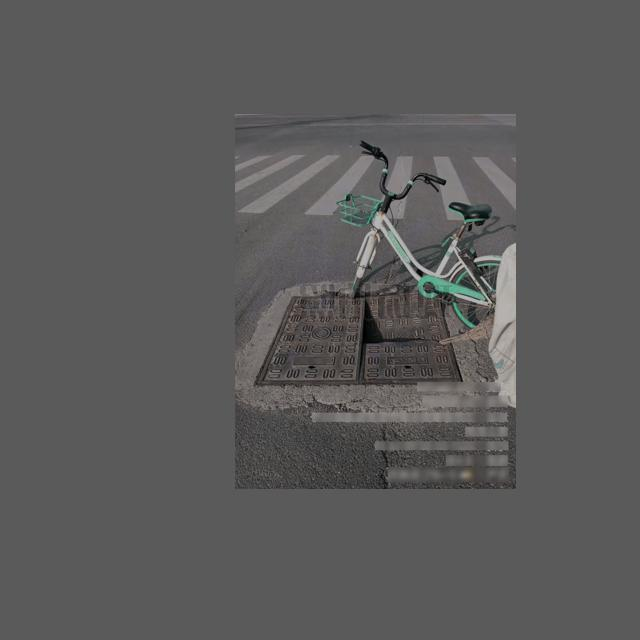broke: (254, 287, 466, 386)
